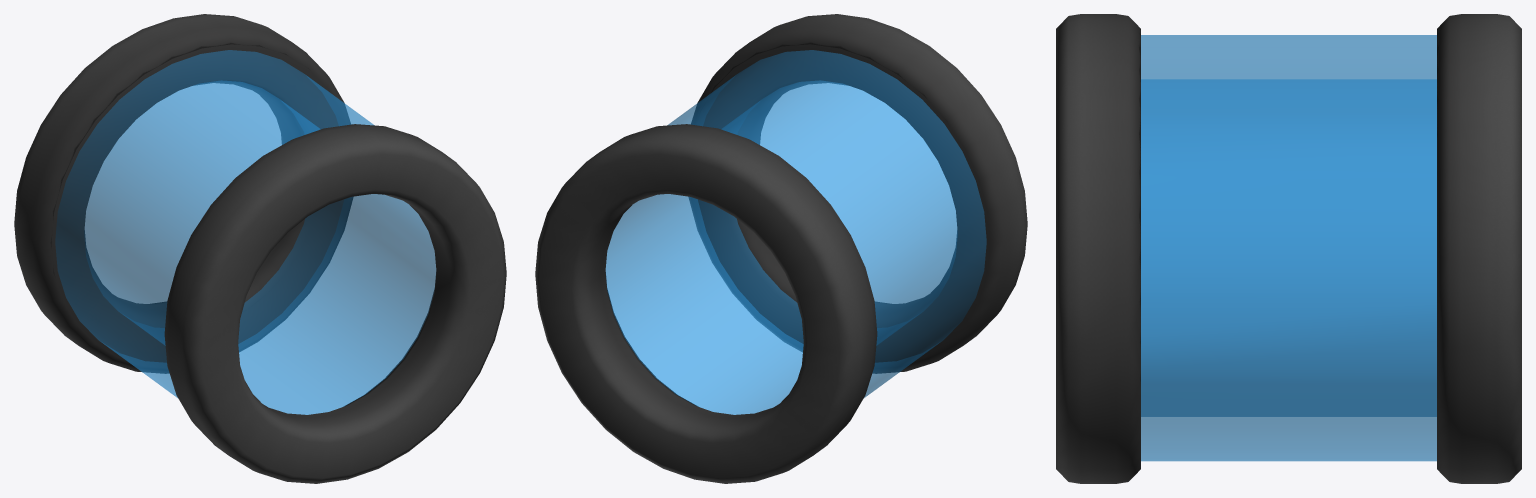
File: Toy_Pipe.fbx
3 views of the same model, side by side, from view 1: azimuth 30°, elevation 25°; view 2: azimuth 150°, elevation 25°; view 3: azimuth 270°, elevation 25° (orthographic). The views are drawn at different scales.
Visible parts, largest first — view 1: NewPipe; view 2: NewPipe; view 3: NewPipe.
Part boxes in pixels (bbox=[...]): NewPipe: bbox=[14, 14, 506, 483]; NewPipe: bbox=[535, 14, 1027, 483]; NewPipe: bbox=[1056, 14, 1521, 483].
Size of the model in its own units: 16.03 by 16.06 by 15.9.
